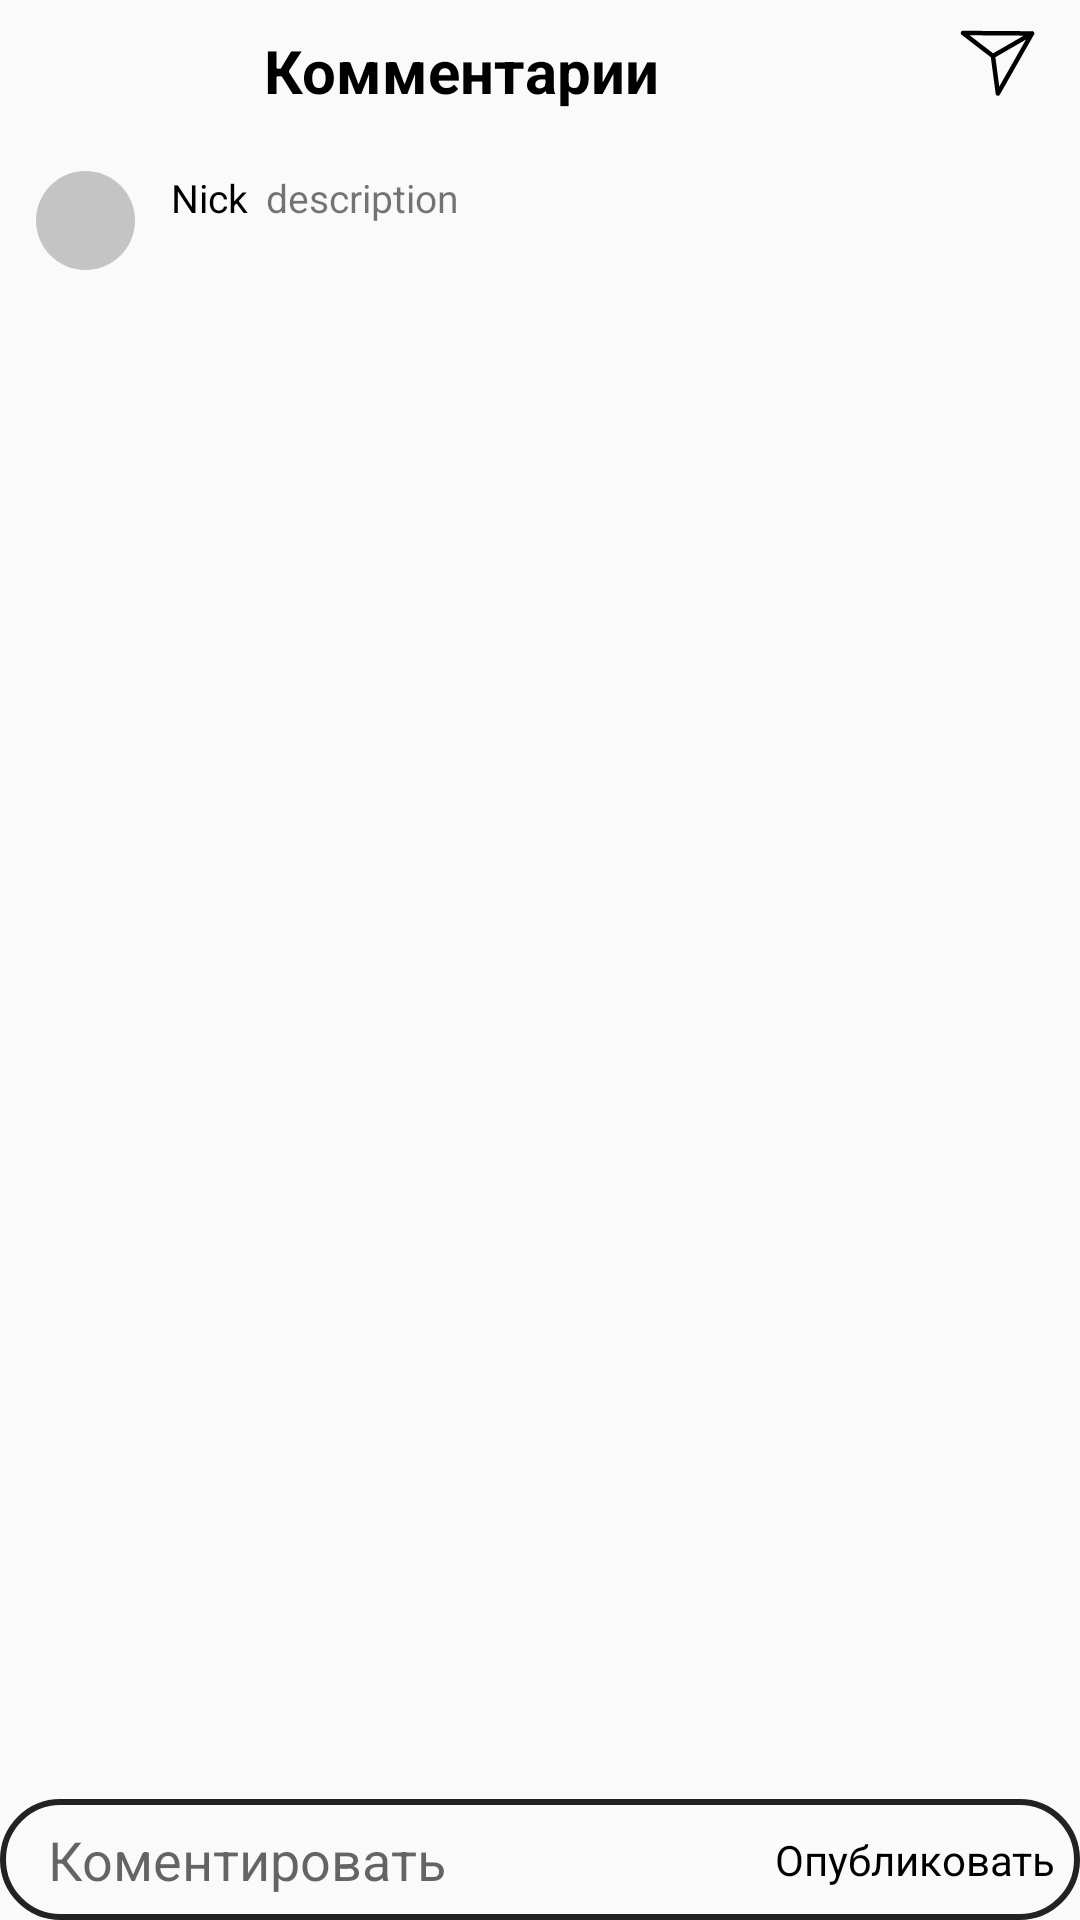

Locate icon controls on the screen. Image size 1080w x 1920h, boxes as (x1, y1, x2, y2).
direct: (960, 30, 1035, 96)
